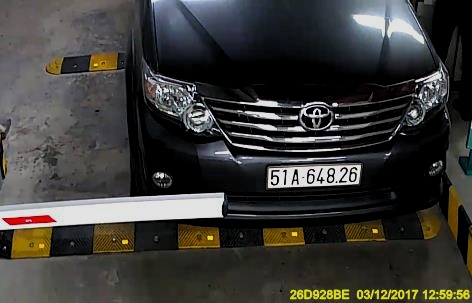plate: (267, 160, 360, 190)
